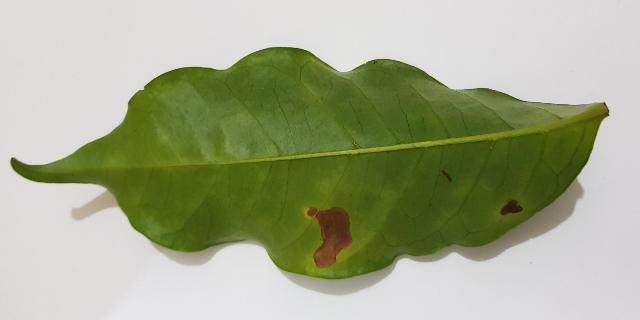cercospora: (303, 208, 352, 269), (501, 200, 523, 216)
